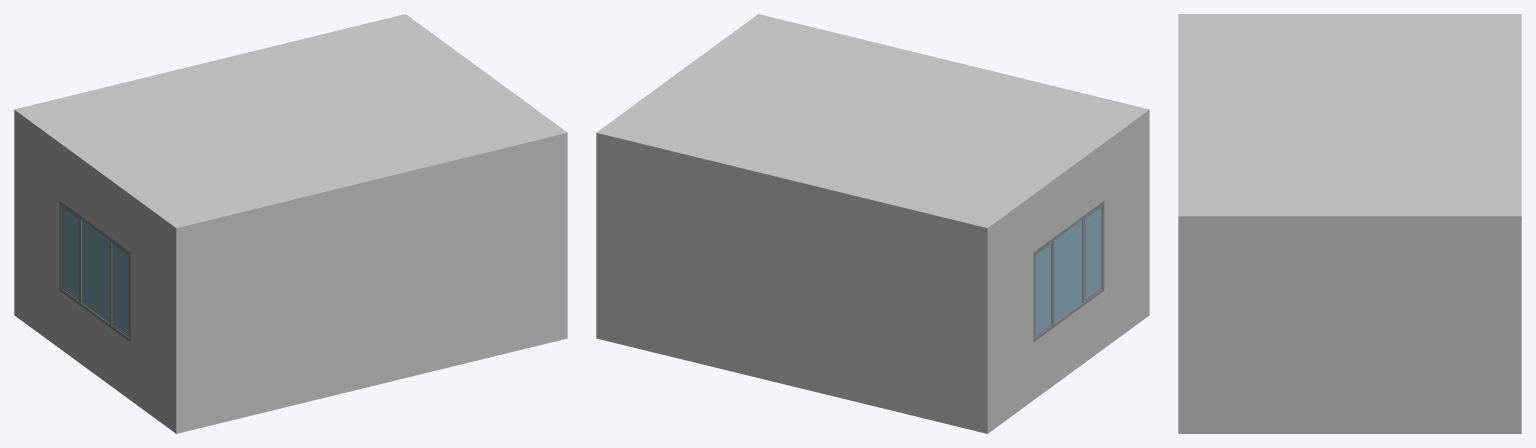
File: room.fbx
3 views of the same model, side by side, from view 1: azimuth 30°, elevation 25°; view 2: azimuth 150°, elevation 25°; view 3: azimuth 270°, elevation 25° (orthographic). The views are drawn at different scales.
Parts seen in each view (by area): view 1: wall_shadow, window; view 2: wall_shadow, window; view 3: wall_shadow.
Boxes of the visible parts, box(x1,y1,x2,y2) form: wall_shadow: box(14, 14, 567, 433); window: box(59, 201, 130, 342); wall_shadow: box(596, 14, 1149, 433); window: box(1033, 201, 1104, 342); wall_shadow: box(1178, 14, 1521, 433).
Bounding box in the file's own units: 6.37 × 3.2 × 4.57.
